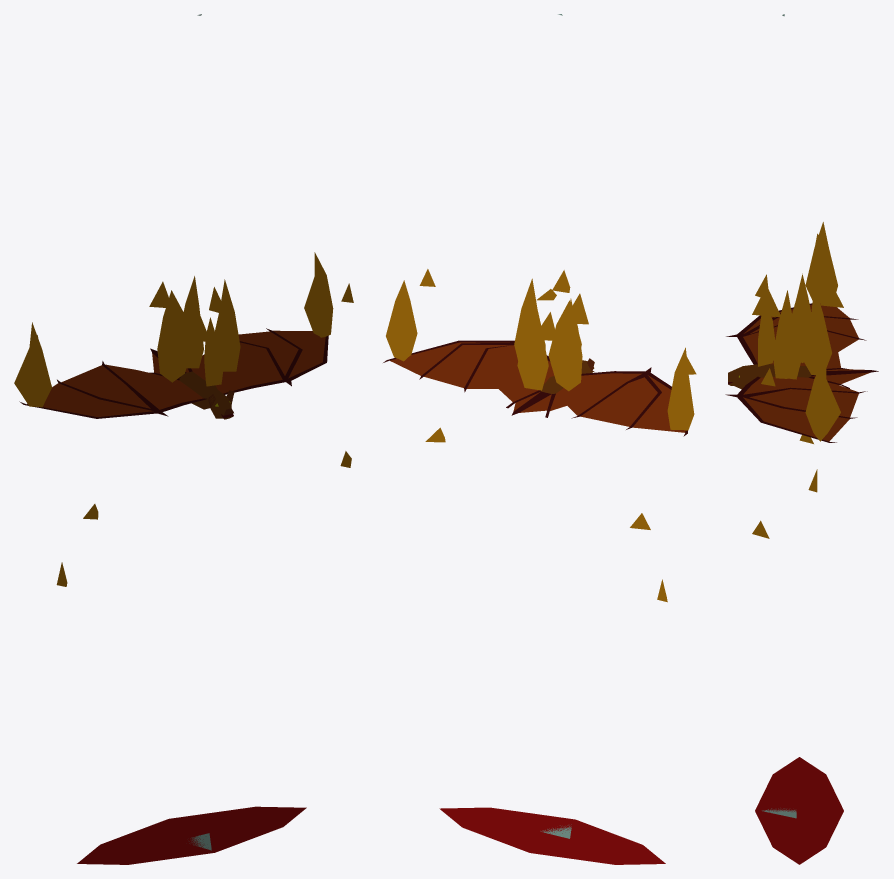
The picture shows the model from 3 angles, left to right: view 1: azimuth 30°, elevation 25°; view 2: azimuth 150°, elevation 25°; view 3: azimuth 270°, elevation 25°; orthographic projection. The views are drawn at different scales.
Parts seen in each view (by area): view 1: runescapemodel; view 2: runescapemodel; view 3: runescapemodel.
Part boxes in pixels (<box>): runescapemodel: <box>14,14,353,864</box>; runescapemodel: <box>383,14,696,864</box>; runescapemodel: <box>725,14,878,864</box>.
Bounding box in the file's own units: 118 × 295 × 52.
